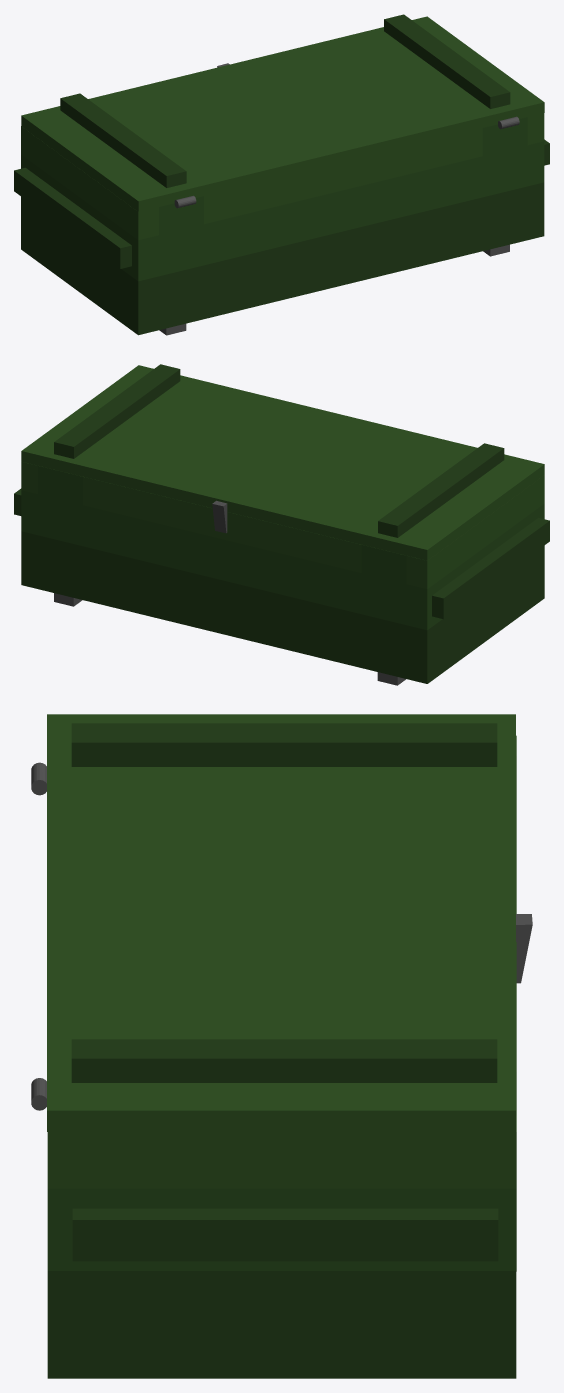
File: military_box.fbx
The picture shows the model from 3 angles, top to bottom: view 1: azimuth 30°, elevation 25°; view 2: azimuth 150°, elevation 25°; view 3: azimuth 270°, elevation 25°; orthographic projection. The views are drawn at different scales.
Visible parts, largest first — view 1: box, cap; view 2: box, cap; view 3: cap, box.
Part boxes in pixels (box(x1,y1,x2,y2)): box: box(14, 113, 549, 335); cap: box(21, 14, 544, 211); box: box(14, 461, 549, 685); cap: box(21, 364, 544, 560); cap: box(47, 714, 532, 1131); box: box(31, 735, 516, 1378).
Size of the model in its own units: 10578 by 3756 by 5347.
